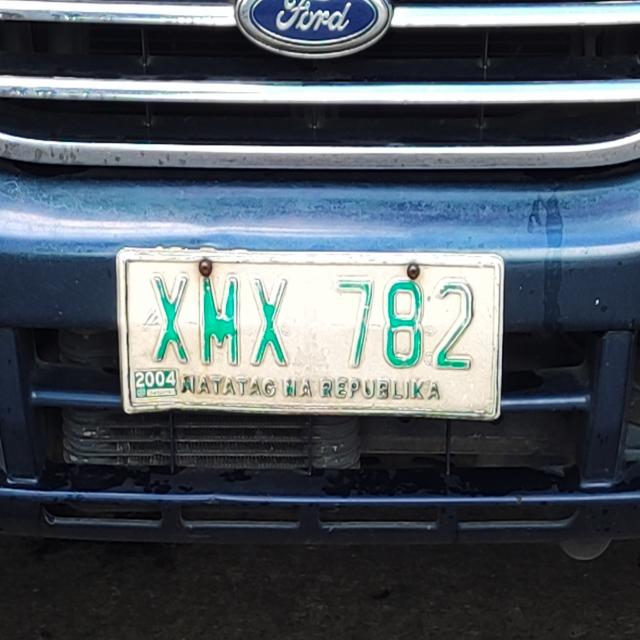plate: (110, 241, 510, 428)
